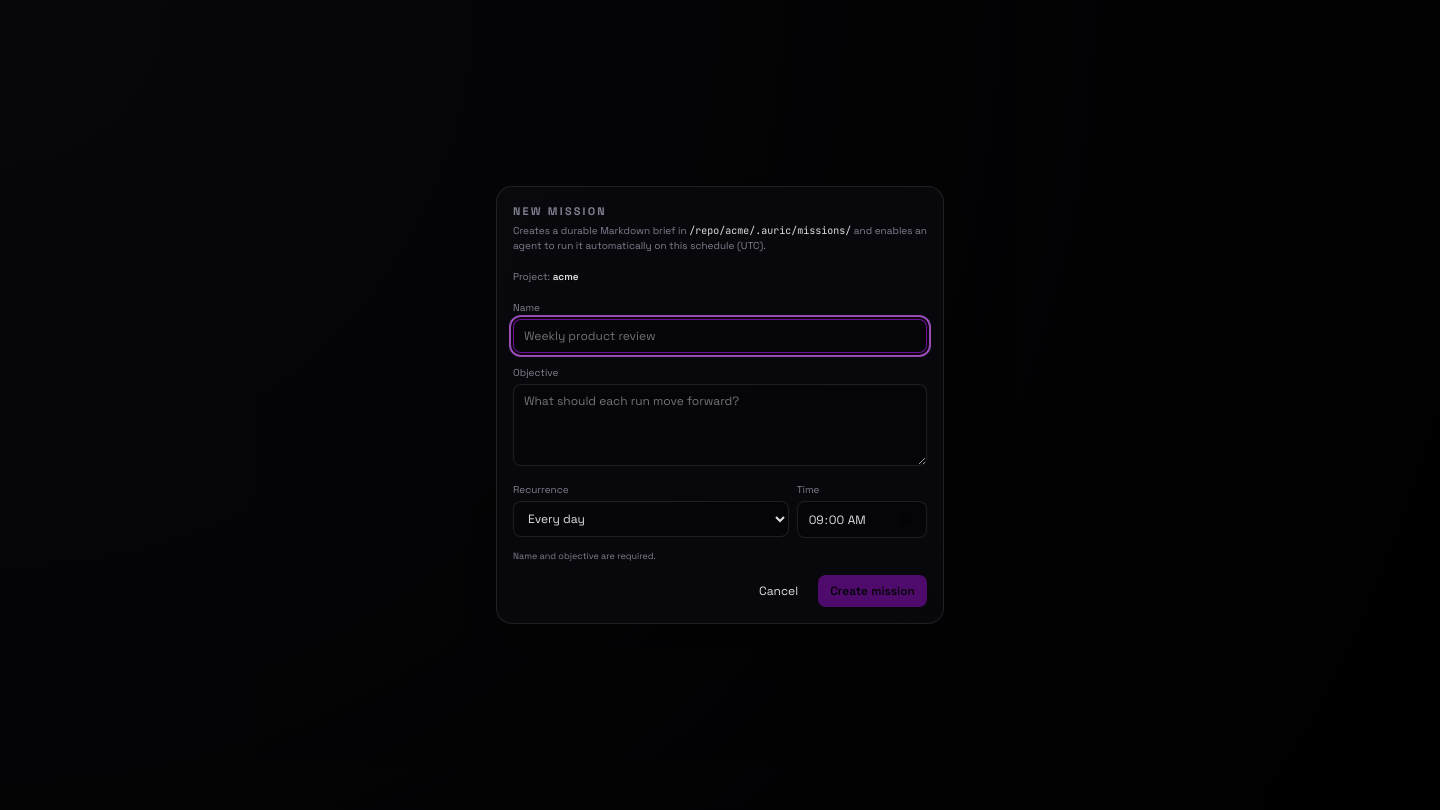
Test: MissionCreateDialog › keeps the form open and explains a create-only collision
In the field with test id "mission-name": {"x": 720, "y": 336} [513, 319, 927, 353], type "Weekly review"
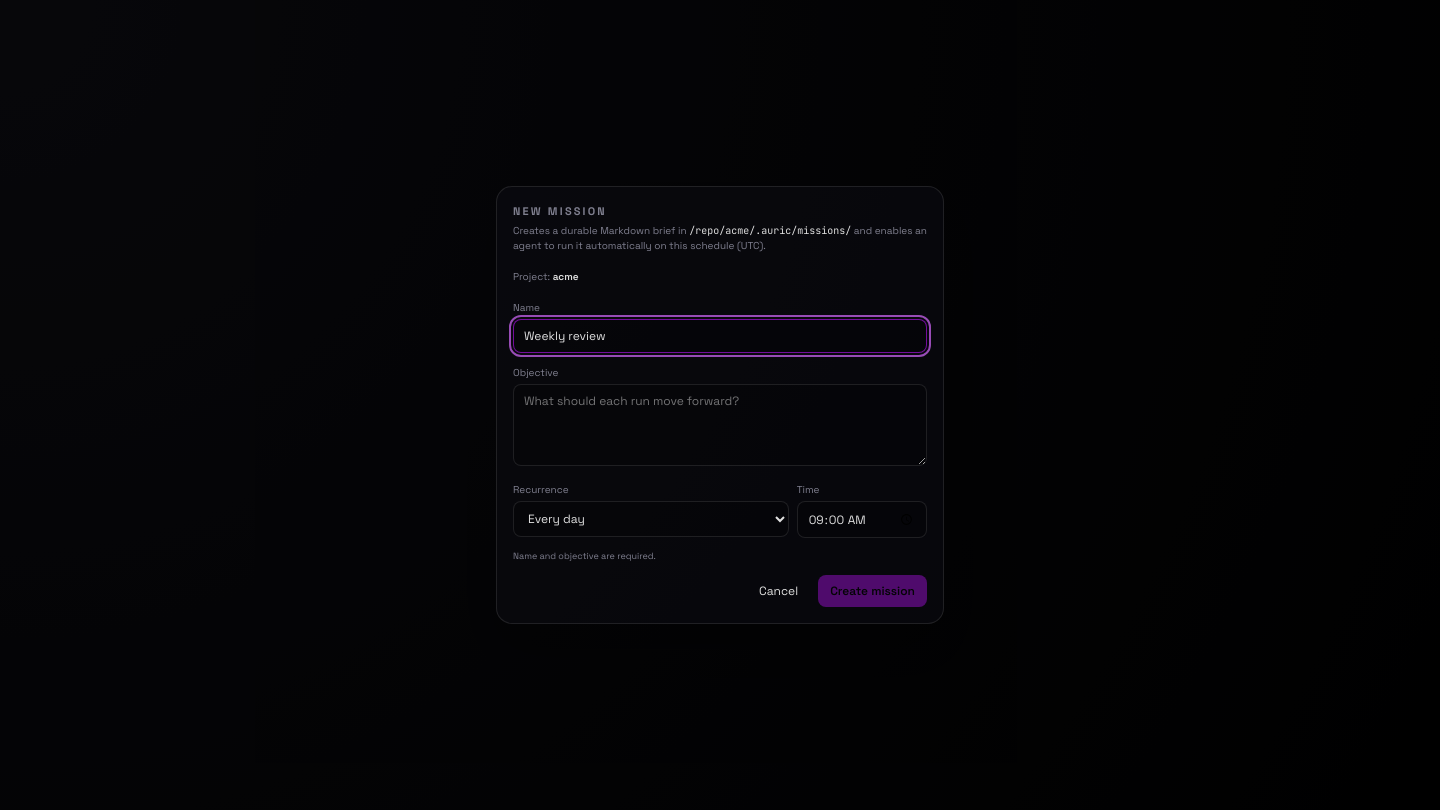
In the text box with test id "mission-objective": {"x": 720, "y": 425} [513, 384, 927, 466], type "Review"
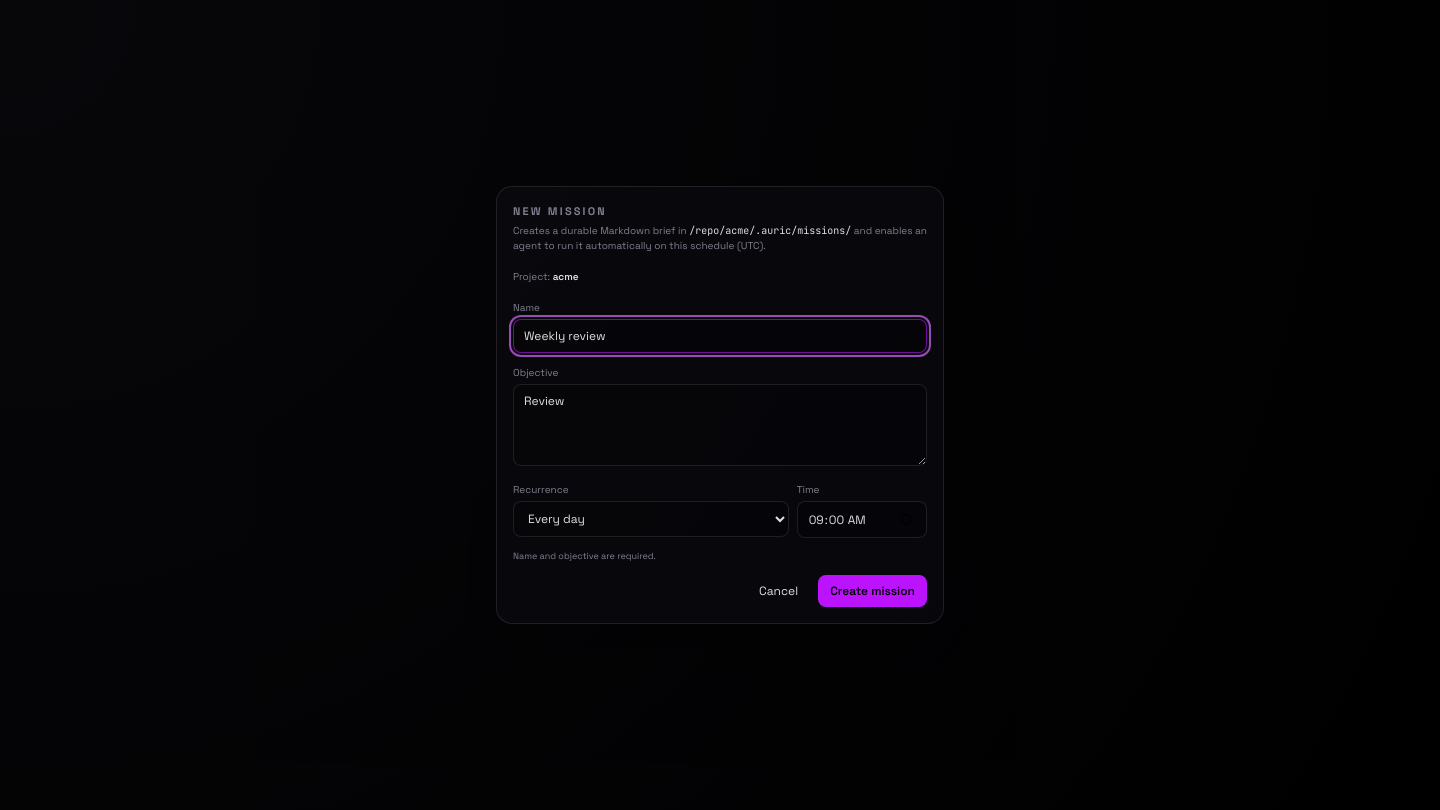
Click the button with test id "mission-create-submit": {"x": 873, "y": 591} [818, 575, 927, 607]
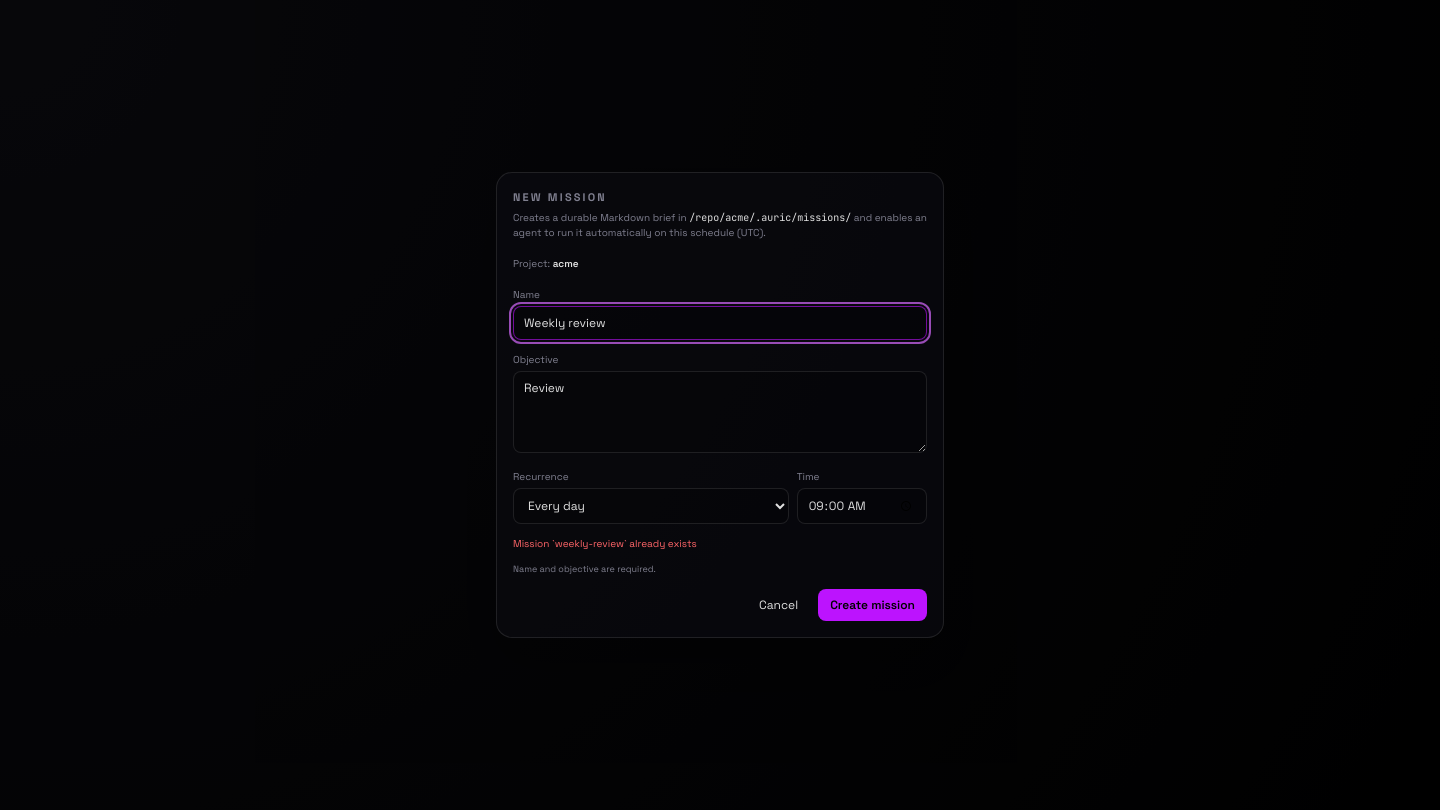
Expected: the message shows "already exists", [513, 537, 697, 550]
